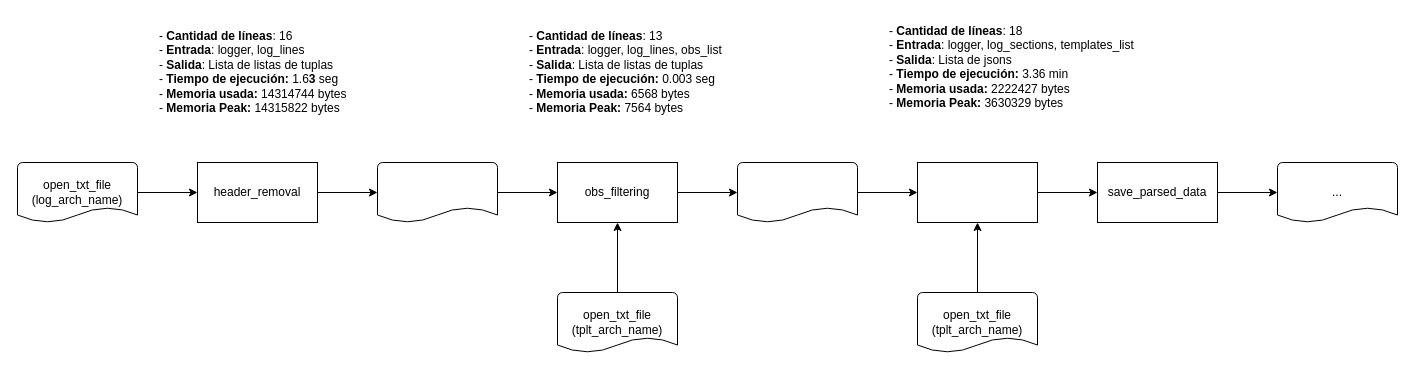
The diagram is 1415 pixels wide and 370 high, and some of its shapes have lost their labels. The centre of each missing label's shape, as x and y in pixels:
"log_parsing" belongs at pixel 977 192.
"tmp" belongs at pixel 437 192.
"tnp" belongs at pixel 797 192.
